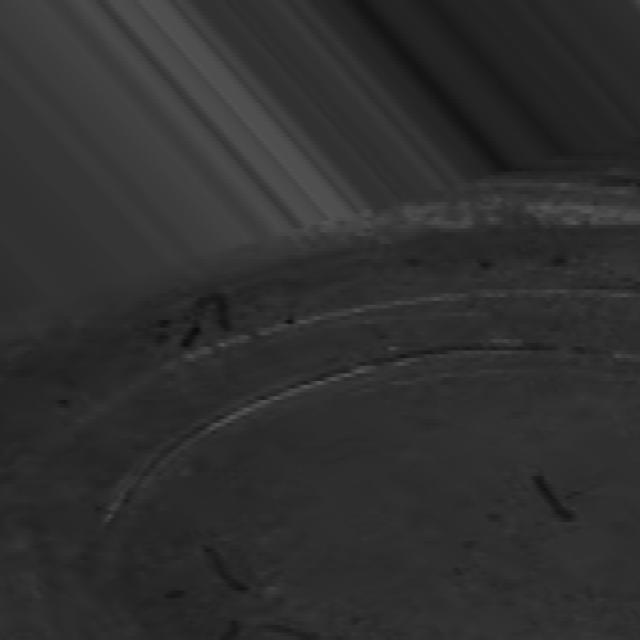larvas: (181, 293, 231, 345), (534, 476, 574, 525), (205, 544, 241, 593), (254, 619, 318, 640), (220, 613, 241, 640)
